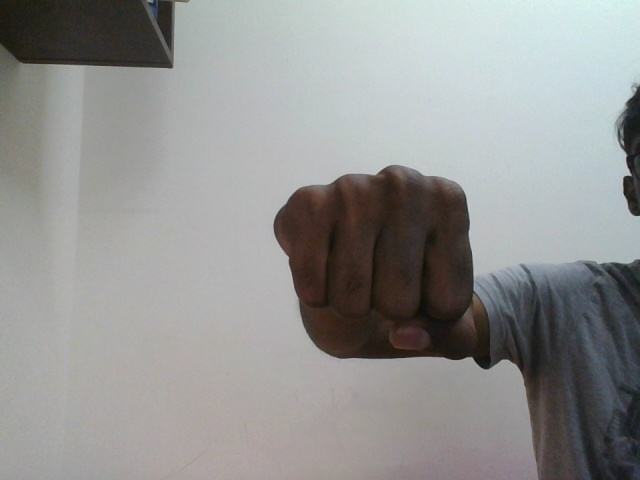Yes: (273, 163, 476, 358)
